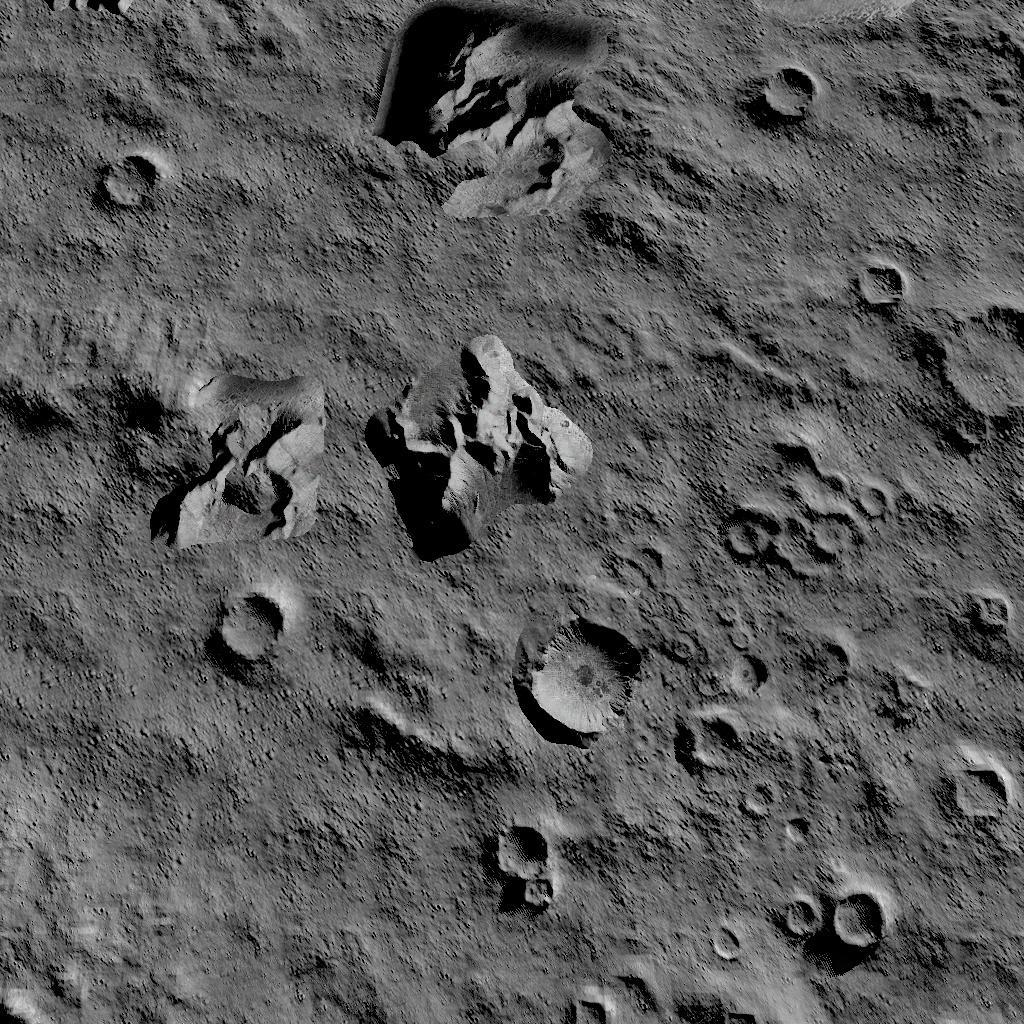Boulders: (374, 0, 708, 270), (0, 308, 326, 550), (366, 335, 596, 563)
Crater: (521, 618, 643, 740), (943, 300, 1024, 463), (778, 885, 890, 955), (490, 818, 556, 918), (206, 588, 288, 668), (90, 145, 166, 215), (758, 60, 826, 128), (946, 758, 1010, 828), (858, 260, 908, 315)
Plan surface: (0, 560, 196, 978), (208, 790, 480, 1024), (180, 82, 360, 298), (718, 155, 1024, 245)
